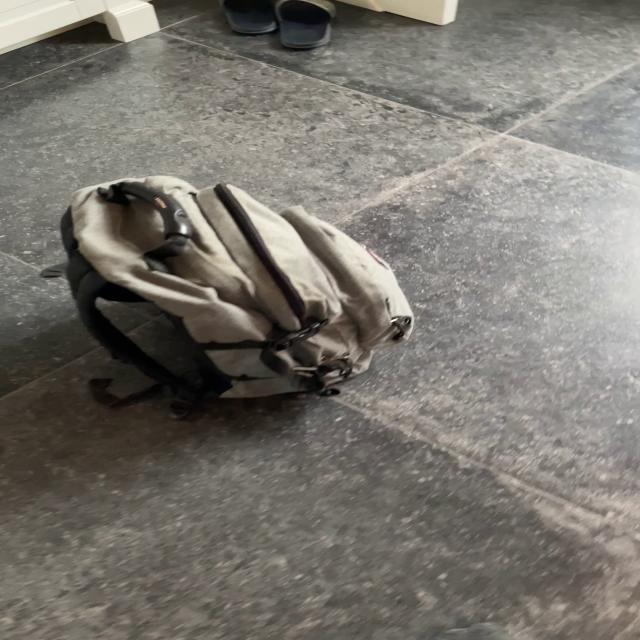backpack: (39, 172, 428, 409)
